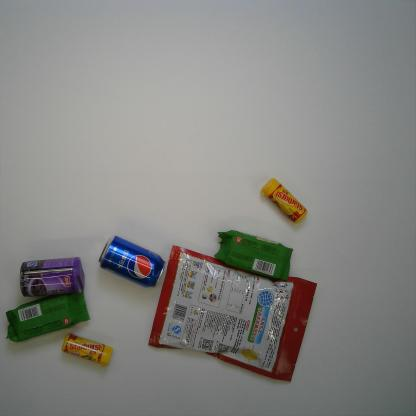Candy: (260, 177, 308, 224), (61, 334, 113, 367)
Canned Food: (18, 256, 86, 297)
Dessert: (4, 288, 91, 344), (213, 230, 294, 280)
Drink: (98, 235, 167, 288)
Instant Drink: (148, 245, 318, 382)
